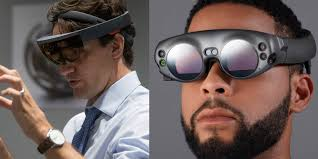hololens: (36, 8, 132, 70)
